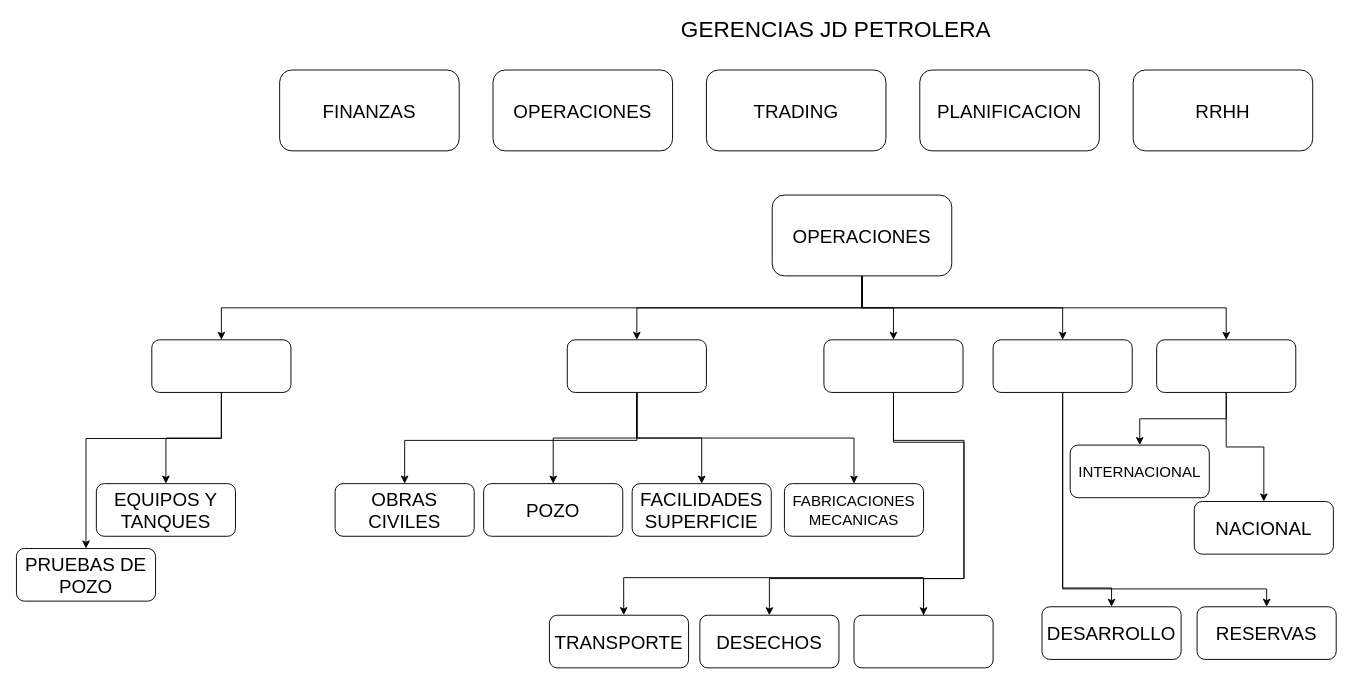
This 1353x684 diagram has some shape labels left out. The centre of each missing label's shape, as x and y in pixels:
FISCALIZACION PRODUCCION: (221,365)
INSTALACIONES TEMPORALES: (923,641)
LOGISTICA: (893,365)
MANTENIMIENTO DE CAMPO: (636,365)
PROCURA: (1226,365)
SUBSUELO: (1062,365)
